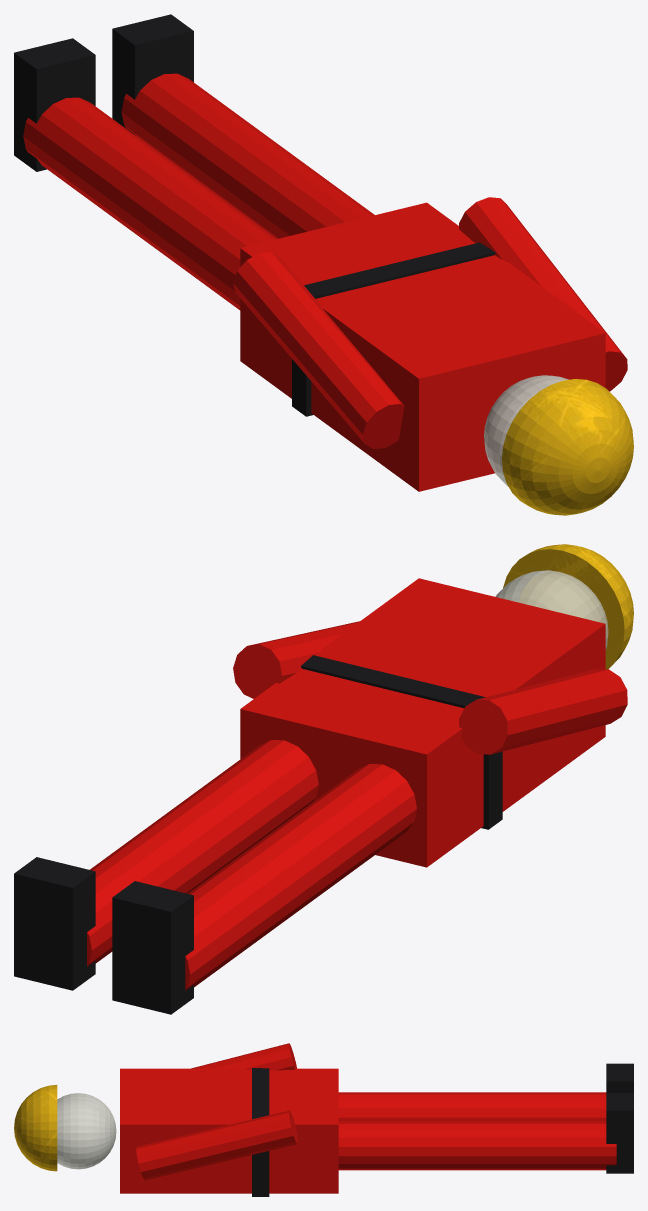
Rendered from technician.glb.
The picture shows the model from 3 angles, top to bottom: view 1: azimuth 30°, elevation 25°; view 2: azimuth 150°, elevation 25°; view 3: azimuth 270°, elevation 25°; orthographic projection. The views are drawn at different scales.
Visible parts, largest first — view 1: technician; view 2: technician; view 3: technician.
Boxes of the visible parts, x1,y1,x2,y2 form: technician: (14, 14, 633, 515); technician: (14, 544, 633, 1014); technician: (14, 1043, 633, 1196).
Bounding box in the file's own units: 0.5597 × 0.2831 × 1.78.
4 materials, 1 textured.
